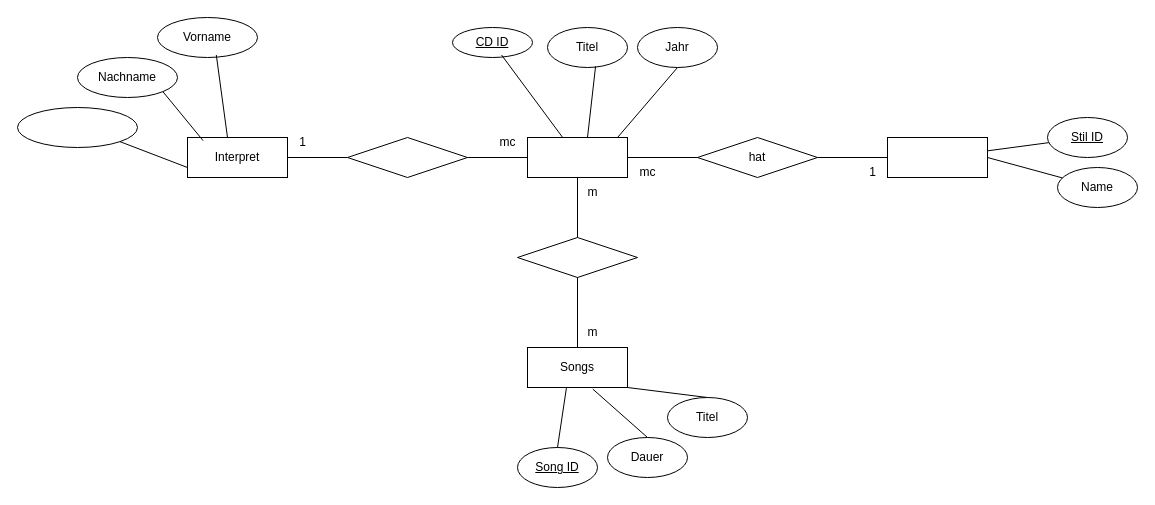
Some shapes in this 1155 by 505 pixel diagram are drawn without their labels. Each missing label, with the box of its shape:
CD: (526, 136, 628, 178)
gehören: (516, 236, 638, 278)
Interpret ID: (16, 106, 138, 148)
Musikstil: (886, 136, 988, 178)
Veröffentlicht: (346, 136, 468, 178)
